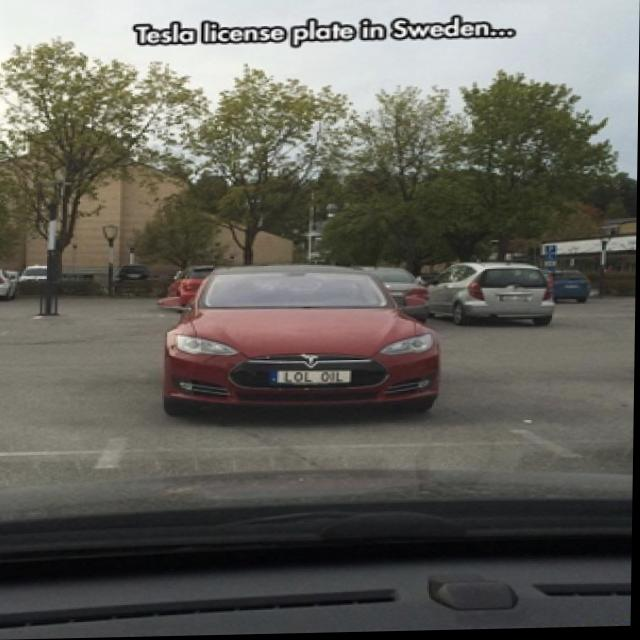licence: (278, 368, 353, 387)
